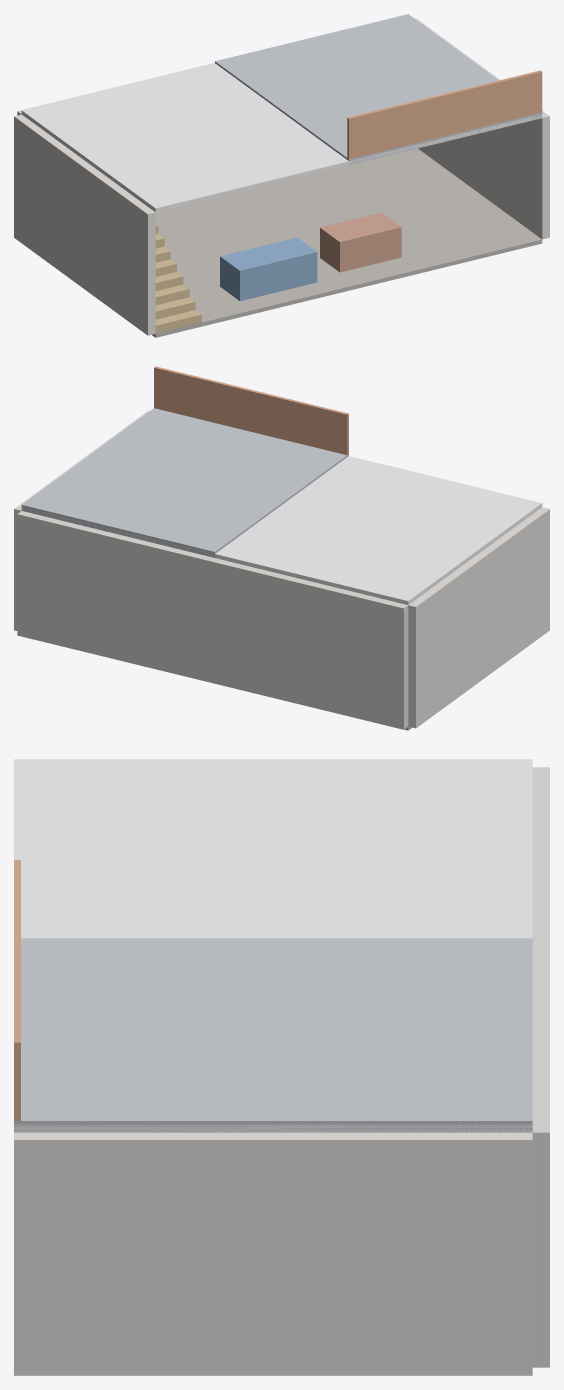
File: room_meshopt.glb
3 views of the same model, one above another, from view 1: azimuth 30°, elevation 25°; view 2: azimuth 150°, elevation 25°; view 3: azimuth 270°, elevation 25° (orthographic). The views are drawn at different scales.
Visible parts, largest first — view 1: floor, ceiling, slab2, wall_W, wall_E, railing, sofa, table, step_0, step_1, step_2, step_3; view 2: wall_N, ceiling, slab2, wall_W, railing, wall_E; view 3: wall_E, slab2, ceiling, wall_N, railing.
Boxes of the visible parts, <box> form: floor: <box>152,148,542,337</box>; ceiling: <box>21,63,542,212</box>; slab2: <box>215,14,542,165</box>; wall_W: <box>14,114,155,335</box>; wall_E: <box>415,18,549,239</box>; railing: <box>347,70,542,158</box>; sofa: <box>220,237,317,301</box>; table: <box>320,212,401,272</box>; step_0: <box>155,310,201,333</box>; step_1: <box>155,297,195,319</box>; step_2: <box>155,284,189,305</box>; step_3: <box>155,272,183,290</box>; wall_N: <box>17,511,408,729</box>; ceiling: <box>21,456,542,604</box>; slab2: <box>21,408,348,557</box>; wall_W: <box>408,507,549,728</box>; railing: <box>154,366,348,454</box>; wall_E: <box>14,411,148,630</box>; wall_E: <box>14,1132,532,1374</box>; slab2: <box>14,938,532,1132</box>; ceiling: <box>14,759,532,1132</box>; wall_N: <box>532,767,549,1367</box>; railing: <box>14,860,20,1120</box>.
Bounding box in the file's own units: 10.4 × 4.25 × 6.2.
